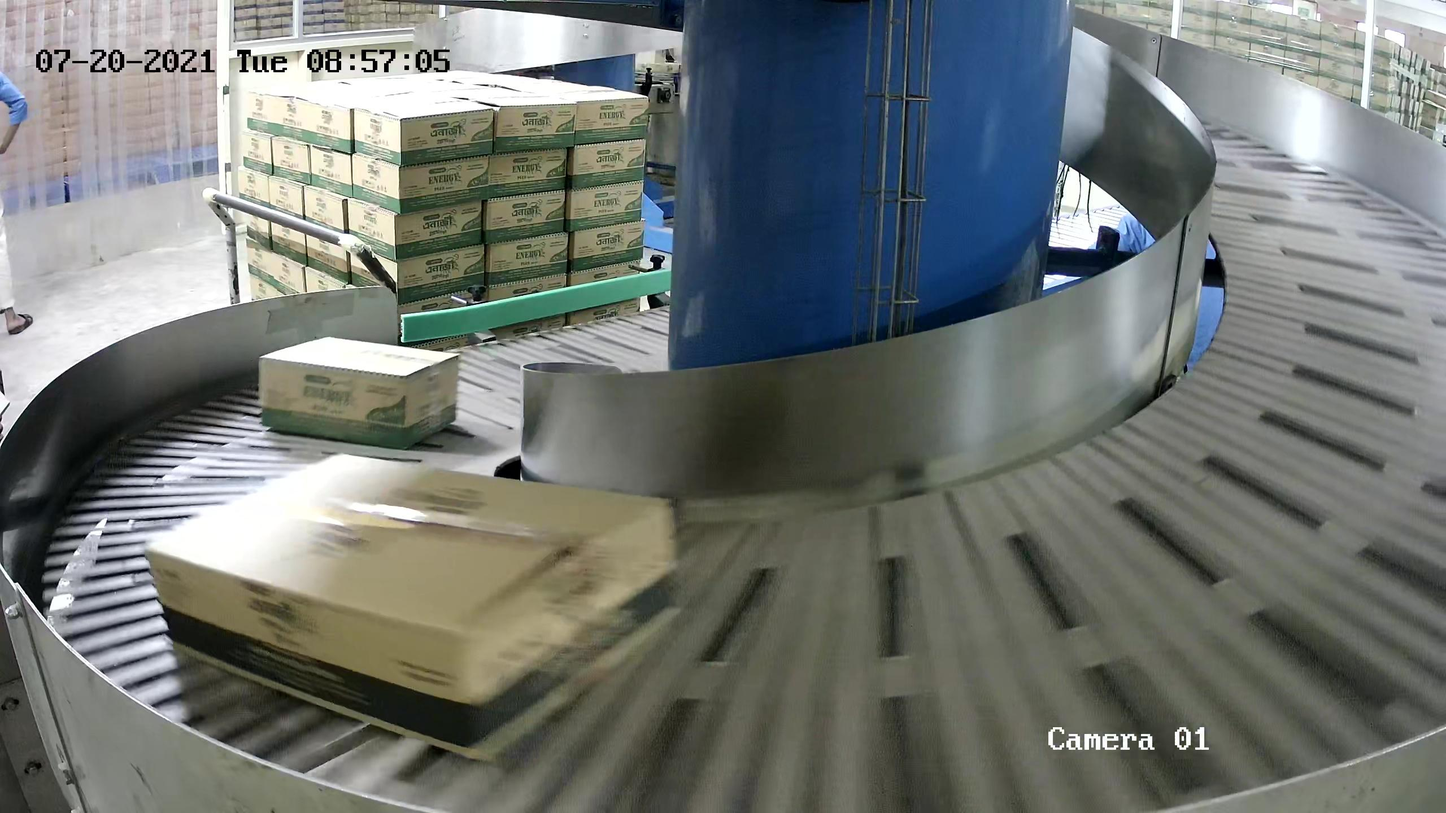Box: (142, 452, 686, 766), (257, 336, 461, 450)
